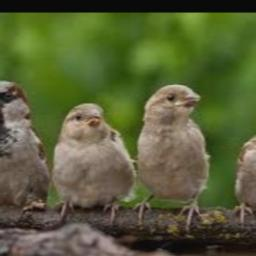Sparrow: (133, 84, 209, 229), (52, 102, 136, 217), (0, 79, 50, 218), (232, 104, 256, 228)
